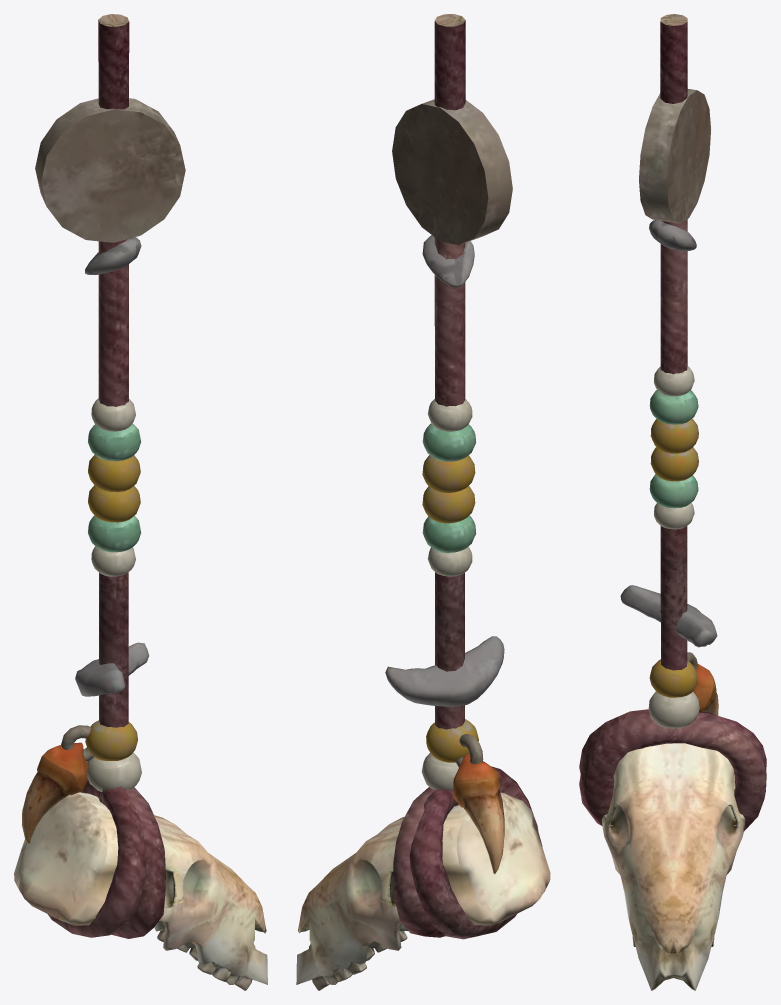
3 views of the same model, side by side, from view 1: azimuth 30°, elevation 25°; view 2: azimuth 150°, elevation 25°; view 3: azimuth 270°, elevation 25° (orthographic). The views are drawn at different scales.
Visible parts, largest first — view 1: SM_Dec_Garou_Set_SM_Hanging_Ornament_03_LOD0; view 2: SM_Dec_Garou_Set_SM_Hanging_Ornament_03_LOD0; view 3: SM_Dec_Garou_Set_SM_Hanging_Ornament_03_LOD0.
Boxes of the visible parts, x1,y1,x2,y2 form: SM_Dec_Garou_Set_SM_Hanging_Ornament_03_LOD0: [14, 14, 267, 990]; SM_Dec_Garou_Set_SM_Hanging_Ornament_03_LOD0: [296, 14, 550, 990]; SM_Dec_Garou_Set_SM_Hanging_Ornament_03_LOD0: [579, 14, 766, 990].
Bounding box in the file's own units: 0.2204 × 0.8696 × 0.1629.
1 material, 1 textured.
